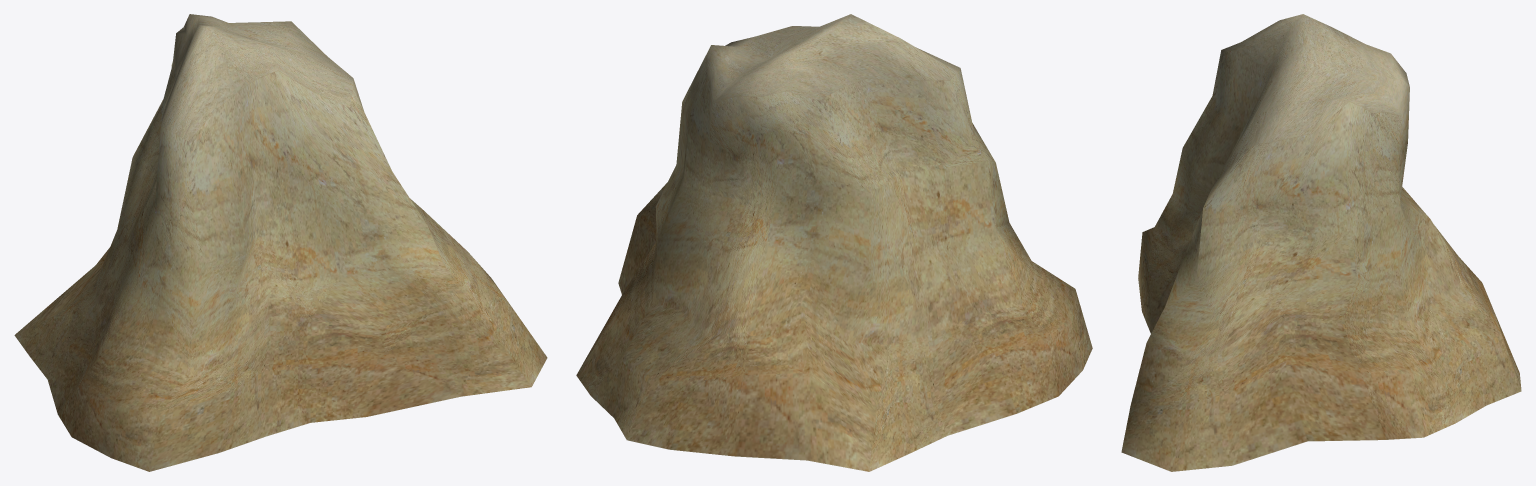
Rendered from rock_beach_spike_l0.fbx.
3 renders of one model, left to right at view 1: azimuth 30°, elevation 25°; view 2: azimuth 150°, elevation 25°; view 3: azimuth 270°, elevation 25°, orthographic. The views are drawn at different scales.
Parts seen in each view (by area): view 1: mesh_node; view 2: mesh_node; view 3: mesh_node.
Boxes of the visible parts, bbox=[...] form: mesh_node: bbox=[14, 14, 547, 471]; mesh_node: bbox=[576, 14, 1092, 471]; mesh_node: bbox=[1121, 14, 1521, 471].
Bounding box in the file's own units: 6.18 × 4.67 × 5.11.
